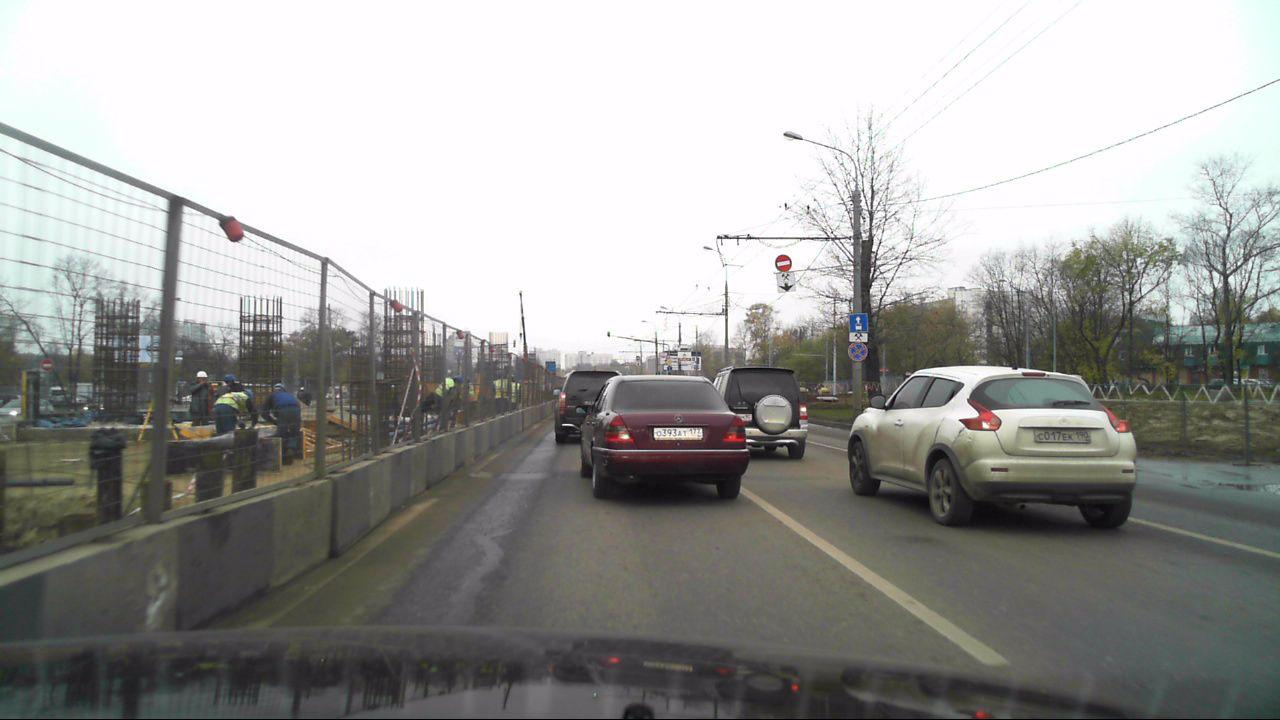3_1: (774, 255, 791, 271)
3_27: (848, 342, 868, 361)
5_14_1: (849, 313, 867, 331)
8_14: (775, 281, 796, 293)
8_5_2: (849, 331, 869, 343), (775, 272, 796, 281)
